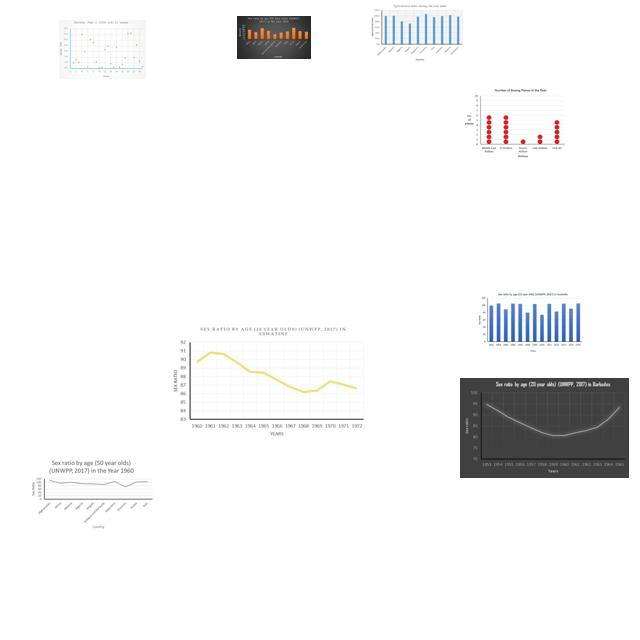Graph: (167, 323, 367, 442), (460, 378, 629, 478), (28, 457, 155, 529), (464, 87, 565, 159), (476, 291, 585, 354), (368, 3, 464, 61), (59, 20, 146, 79), (237, 16, 311, 59)
